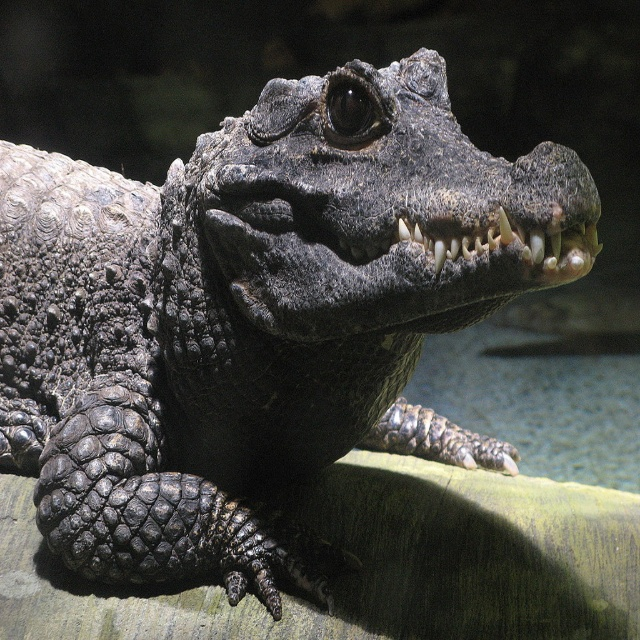Crocodile: (0, 46, 602, 619)
